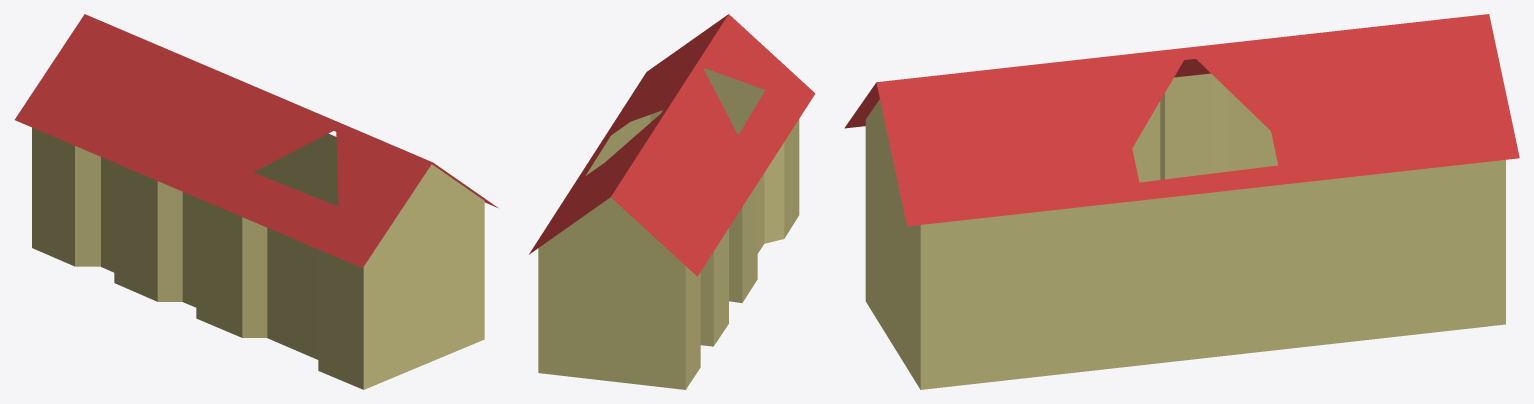
The picture shows the model from 3 angles, left to right: view 1: azimuth 30°, elevation 25°; view 2: azimuth 150°, elevation 25°; view 3: azimuth 270°, elevation 25°; orthographic projection. The views are drawn at different scales.
Bounding box in the file's own units: 20.25 × 34.18 × 14.78.
